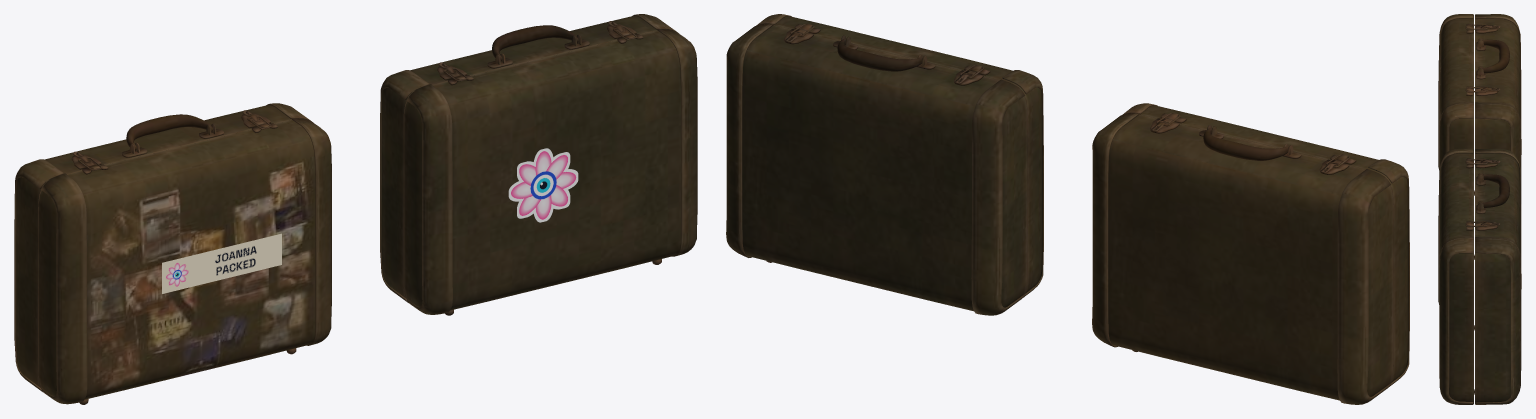
The model's file is nyb_kramer_suitcase.glb.
3 views of the same model, side by side, from view 1: azimuth 30°, elevation 25°; view 2: azimuth 150°, elevation 25°; view 3: azimuth 270°, elevation 25° (orthographic). The views are drawn at different scales.
Visible parts, largest first — view 1: vintage_suitcase_01_bottom, stk_lbl_10746eb185.png, stk_eyeflower_die.png; view 2: vintage_suitcase_01_bottom; view 3: vintage_suitcase_01_bottom.
Part boxes in pixels (bbox=[...]): vintage_suitcase_01_bottom: bbox=[14, 14, 697, 404]; stk_lbl_10746eb185.png: bbox=[162, 233, 281, 293]; stk_eyeflower_die.png: bbox=[508, 148, 578, 222]; vintage_suitcase_01_bottom: bbox=[726, 14, 1409, 404]; vintage_suitcase_01_bottom: bbox=[1438, 14, 1521, 404].
Bounding box in the file's own units: 1.61 × 0.5679 × 0.2392.
Materials: 4 (4 with a texture image).
